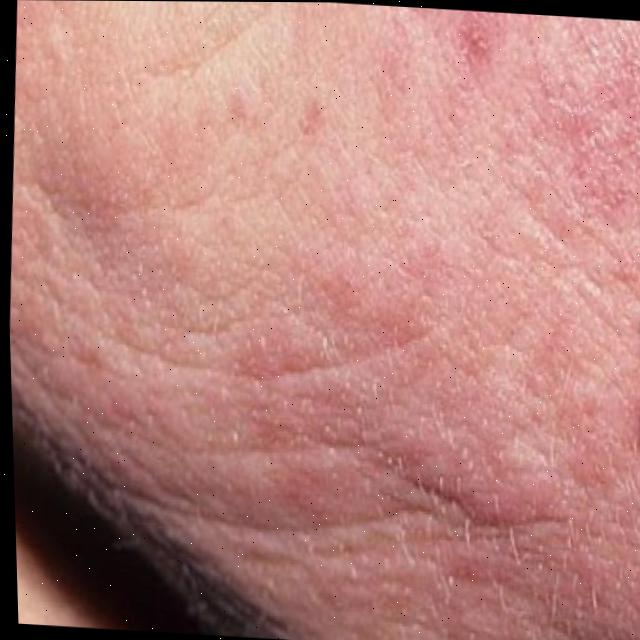Rosacea: (422, 8, 640, 201)
